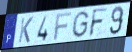4: (36, 13, 50, 43)
9: (109, 5, 125, 36)
F: (88, 7, 110, 39), (53, 11, 73, 41)
G: (71, 10, 91, 39)
K: (17, 17, 34, 44)
